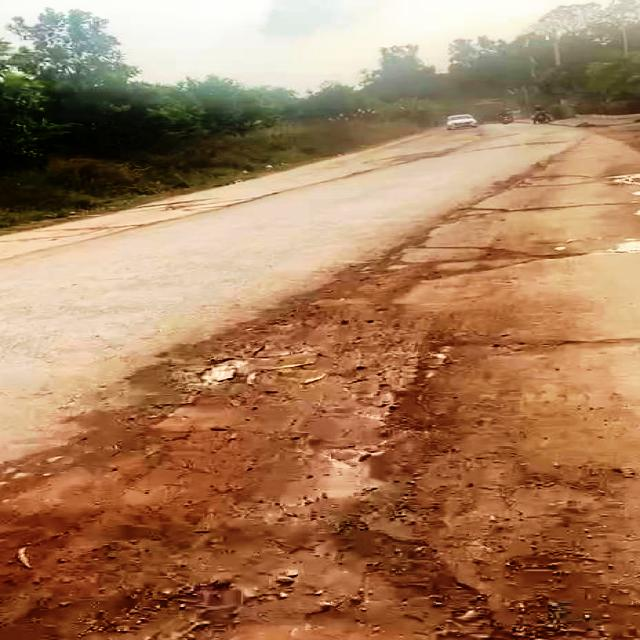pothole: (163, 527, 538, 640)
